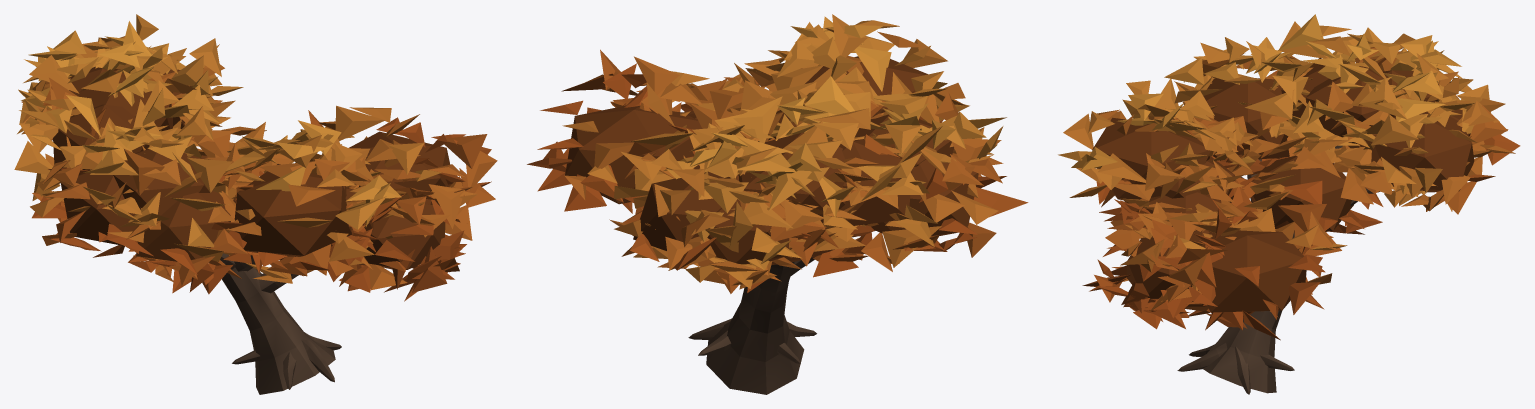
File: oak_3.glb
The picture shows the model from 3 angles, left to right: view 1: azimuth 30°, elevation 25°; view 2: azimuth 150°, elevation 25°; view 3: azimuth 270°, elevation 25°; orthographic projection. The views are drawn at different scales.
Parts seen in each view (by area): view 1: oak_3; view 2: oak_3; view 3: oak_3.
Part boxes in pixels (left/top/right/bottom): oak_3: left=14, top=14, right=497, bottom=394; oak_3: left=527, top=14, right=1028, bottom=394; oak_3: left=1058, top=14, right=1520, bottom=394.
Bounding box in the file's own units: 15.79 × 11.44 × 15.68.
